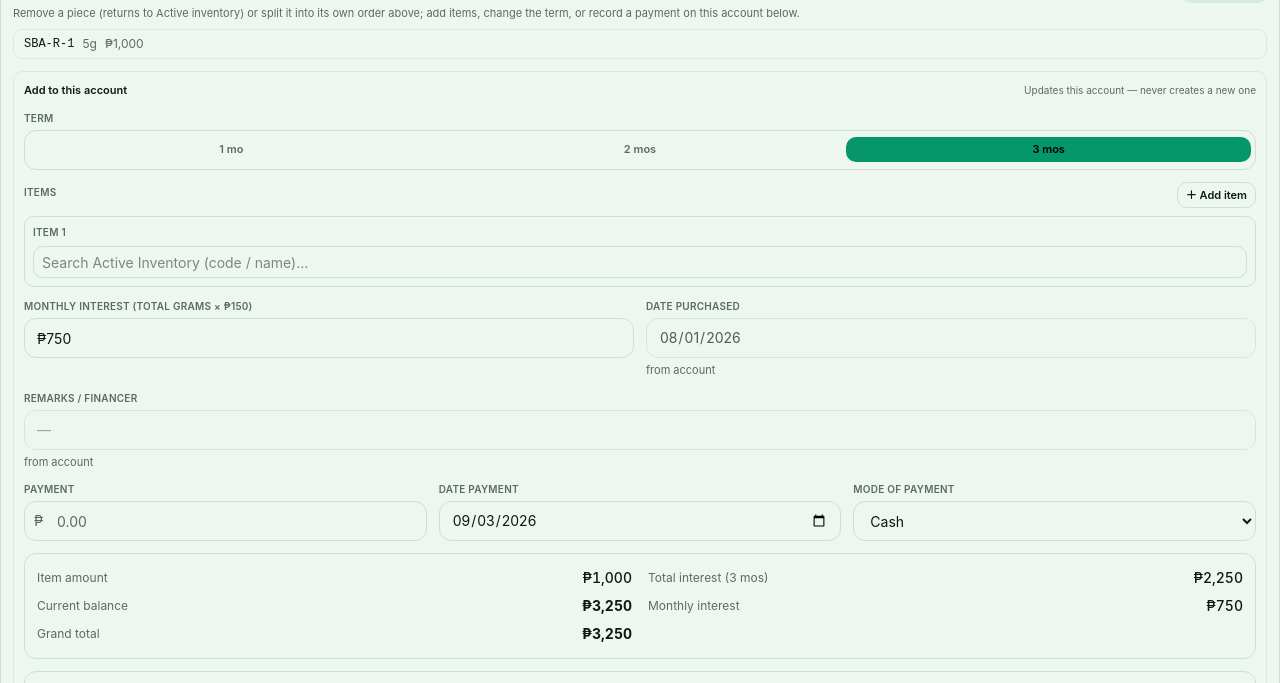
LayawayEditItems — Edit Items (Owner / Admin) › Save adds the picked item (fixed prefill) and shows the note
Type "SBA-R-9" into the field with test id "layaway-add-item-search" at (640, 262), box left=33, top=246, right=1247, bottom=278
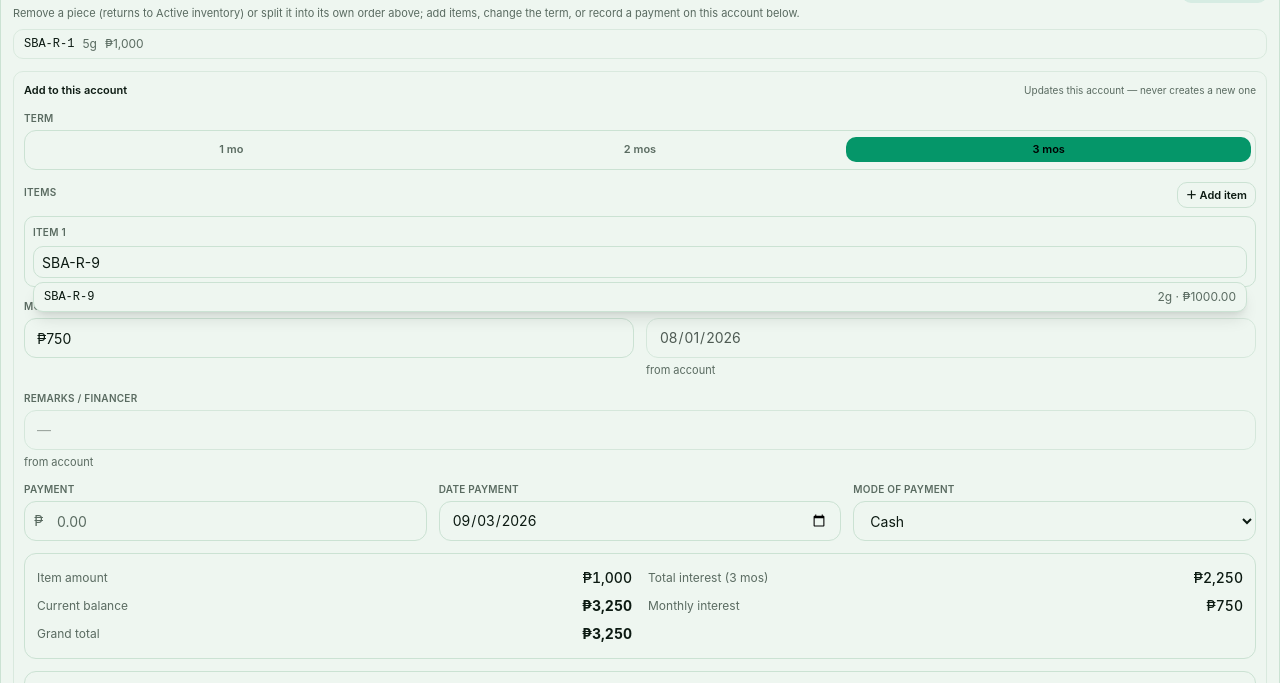
Click the button with test id "order-add-item-pick-inv-1" at (69, 297), box left=34, top=283, right=1246, bottom=311
(page scrolled)
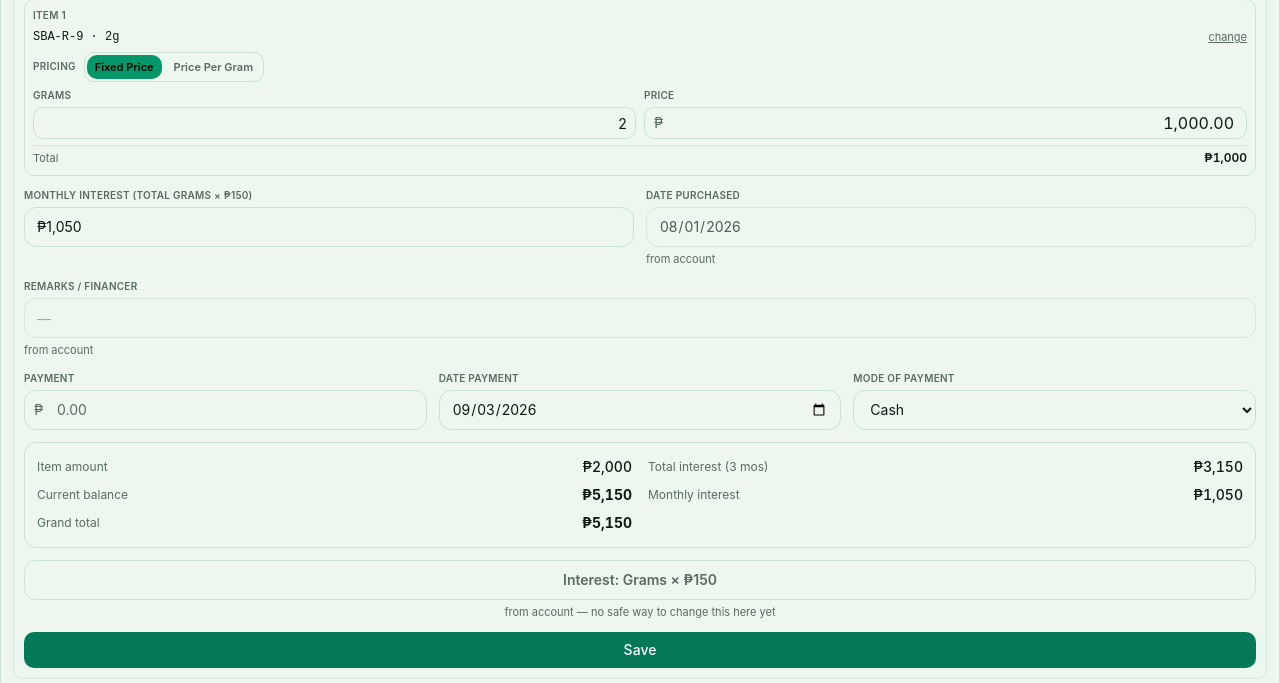
Click the button with test id "layaway-edit-items-save" at (640, 650), box left=24, top=632, right=1256, bottom=668
(page scrolled)
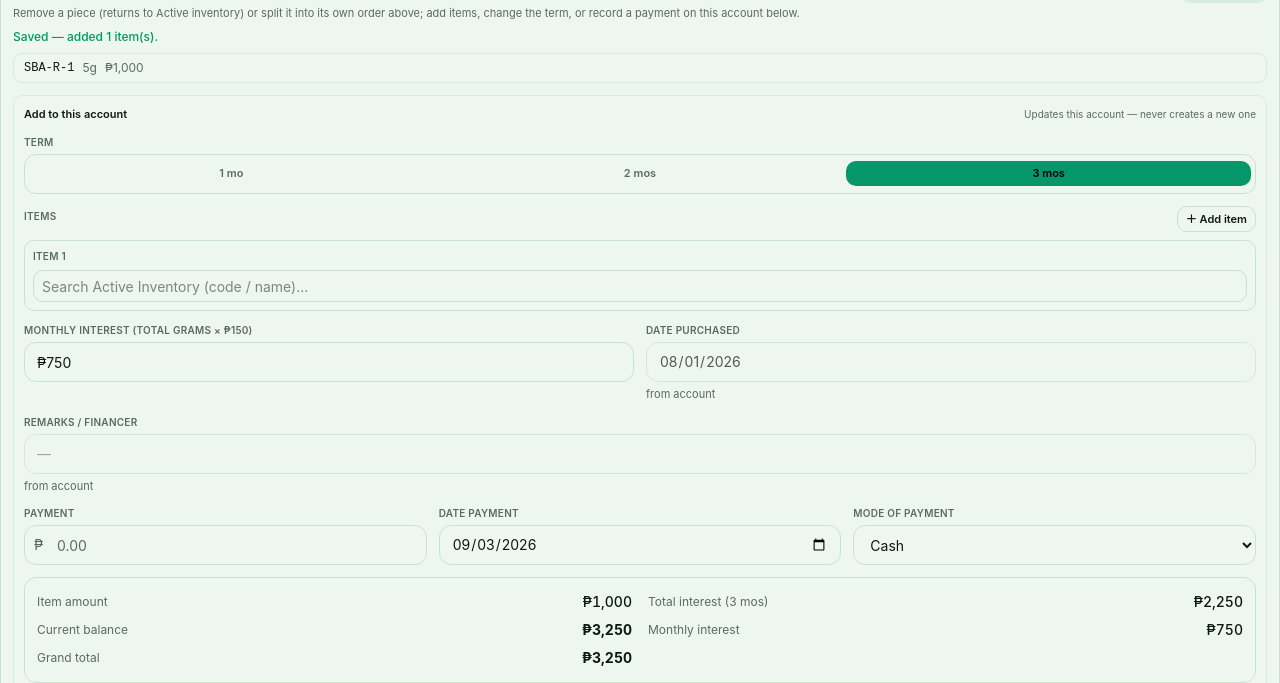
Check: the text with test id "layaway-edit-items-note" shows "added 1 item", box left=13, top=29, right=158, bottom=44
